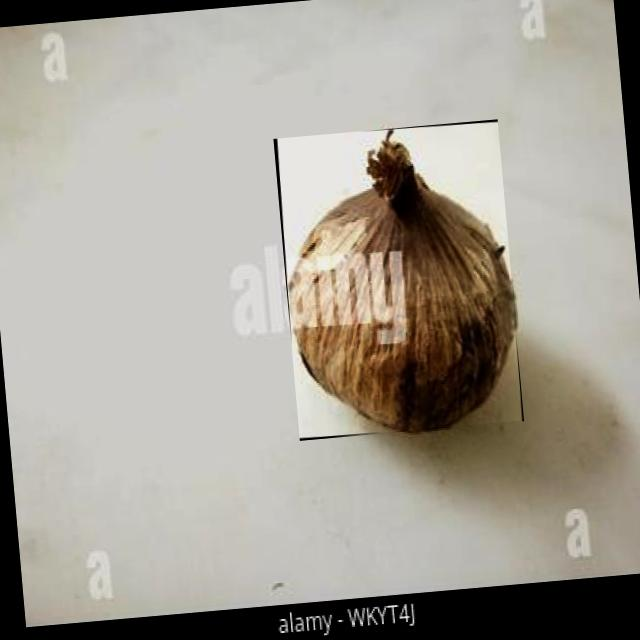rotten: (288, 129, 515, 430)
